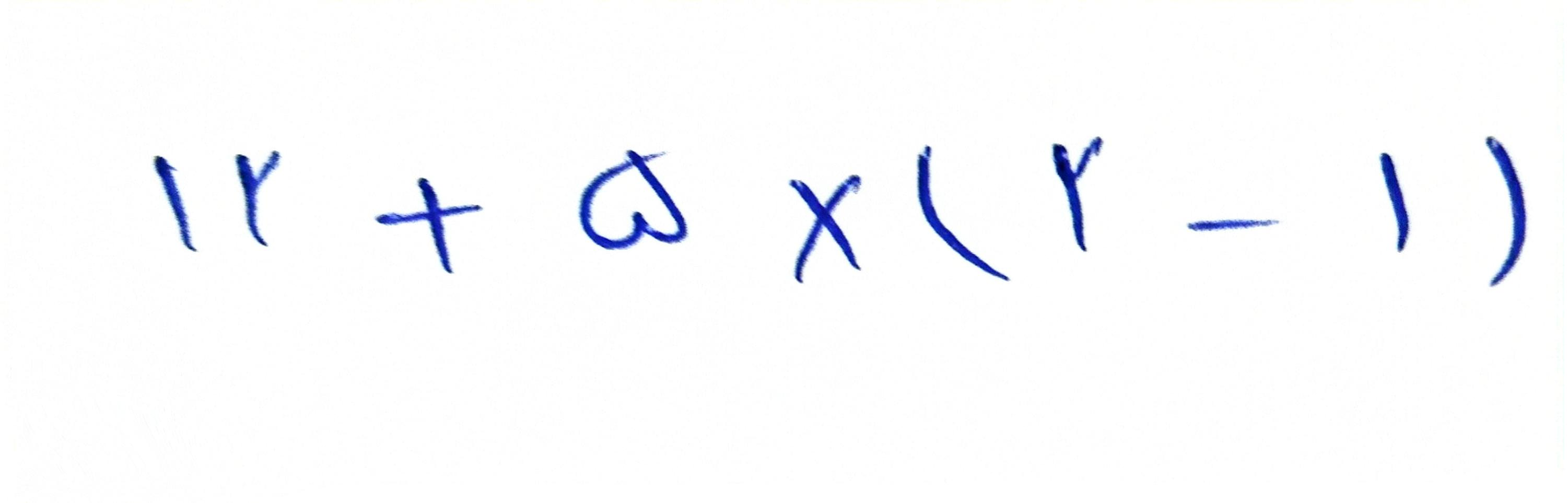character: (916, 145, 1014, 284), (575, 151, 690, 251), (375, 178, 483, 274), (790, 174, 863, 278), (1482, 133, 1528, 286), (1053, 138, 1106, 253), (236, 148, 281, 249), (152, 158, 198, 252), (1378, 151, 1412, 252), (1185, 219, 1281, 232)
